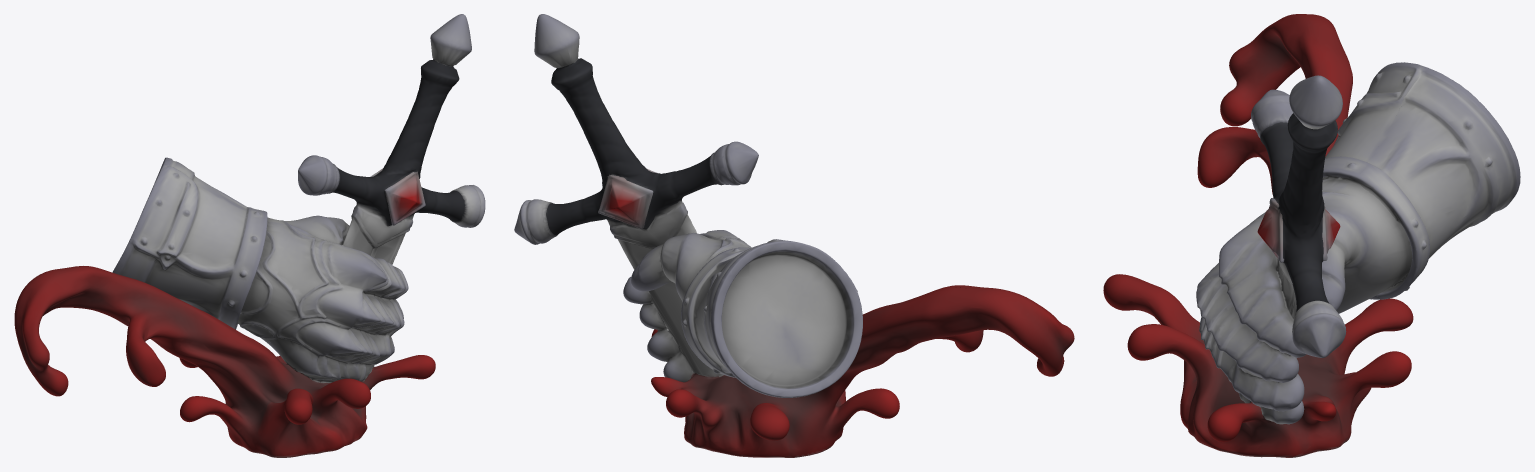
The model's file is Prop - Gauntlet.glb.
The picture shows the model from 3 angles, left to right: view 1: azimuth 30°, elevation 25°; view 2: azimuth 150°, elevation 25°; view 3: azimuth 270°, elevation 25°; orthographic projection. The views are drawn at different scales.
Visible parts, largest first — view 1: gauntlet; view 2: gauntlet; view 3: gauntlet.
Part boxes in pixels (x1=…): gauntlet: x1=14, y1=14, x2=485, y2=457; gauntlet: x1=514, y1=14, x2=1074, y2=457; gauntlet: x1=1103, y1=14, x2=1520, y2=457.
Size of the model in its own units: 1.04 by 0.7267 by 0.5981.
1 material, 1 textured.
